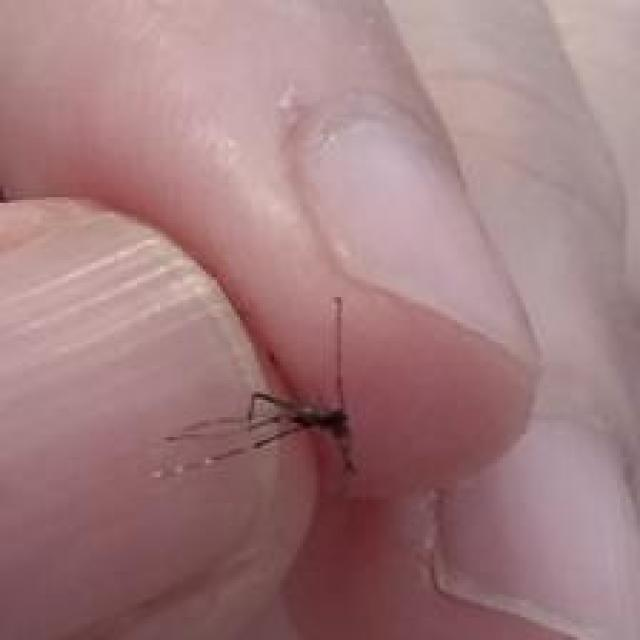Aedes albopictus: (150, 294, 359, 483)
